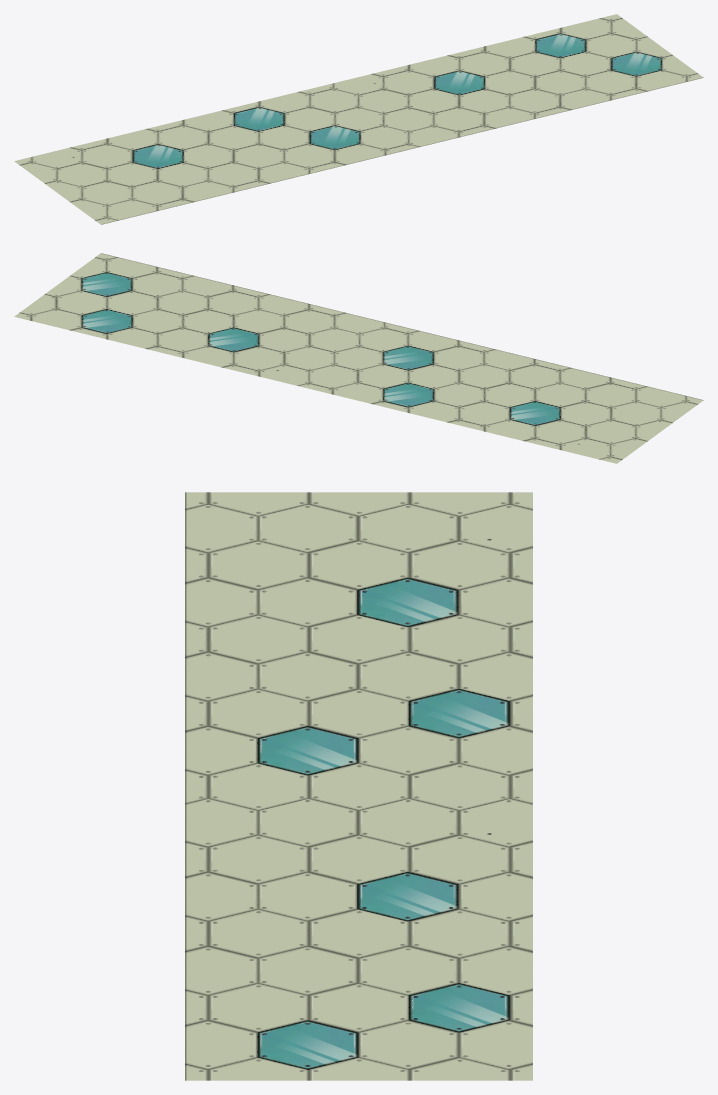
Rendered from Wall03.fbx.
The picture shows the model from 3 angles, top to bottom: view 1: azimuth 30°, elevation 25°; view 2: azimuth 150°, elevation 25°; view 3: azimuth 270°, elevation 25°; orthographic projection. The views are drawn at different scales.
Visible parts, largest first — view 1: pPlane1, polySurface307, polySurface13, pPlane24; view 2: pPlane1, polySurface307, polySurface13, pPlane24; view 3: polySurface13, pPlane1, polySurface307, pPlane24.
Part boxes in pixels (x1,y1,x2,y2): pPlane1: (165,87,401,187); polySurface307: (316,51,552,151); polySurface13: (14,124,251,224); pPlane24: (466,14,703,114); pPlane1: (316,326,552,426); polySurface307: (165,290,401,390); polySurface13: (466,363,703,463); pPlane24: (14,253,251,353); polySurface13: (185,492,532,639); pPlane1: (185,639,532,786); polySurface307: (185,786,532,933); pPlane24: (185,933,532,1080).
Size of the model in its own units: 4 by 7e-10 by 1.
Materials: 1 (1 with a texture image).
